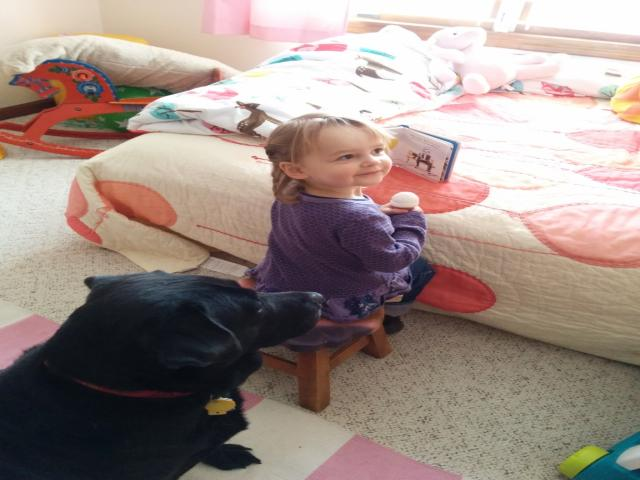Dog: (0, 269, 324, 480)
